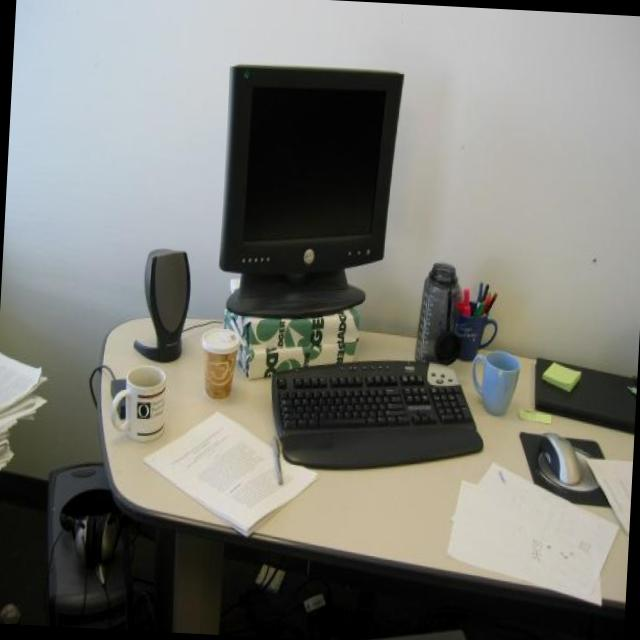book: (139, 406, 320, 542)
curtains: (220, 298, 362, 385)
tables: (85, 310, 639, 640)
television: (214, 61, 404, 324)
